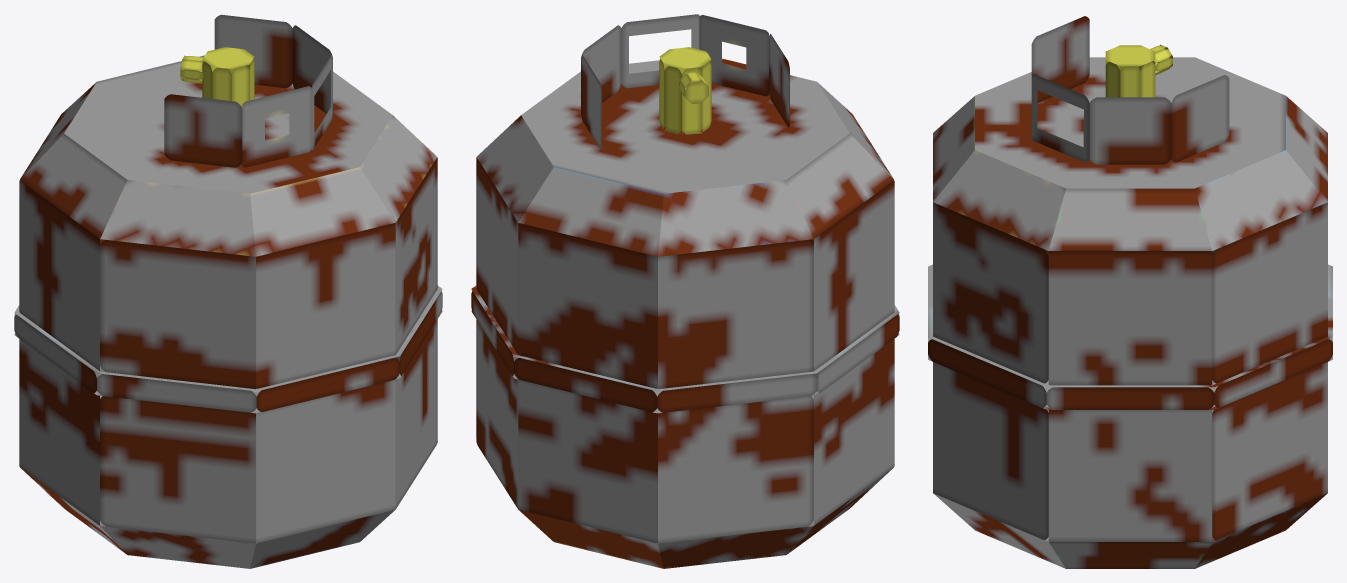
Rendered from PropaneTank.fbx.
3 renders of one model, left to right at view 1: azimuth 30°, elevation 25°; view 2: azimuth 150°, elevation 25°; view 3: azimuth 270°, elevation 25°, orthographic.
Parts seen in each view (by area): view 1: cylinder, cylinder_1, cylinder_3, cylinder_2, cylinder_4, cylinder_5; view 2: cylinder, cylinder_1, cylinder_3, cylinder_2, cylinder_4, cylinder_5; view 3: cylinder, cylinder_1, cylinder_3, cylinder_2, cylinder_4.
Boxes of the visible parts, x1,y1,x2,y2 form: cylinder: [14, 157, 442, 543]; cylinder_1: [20, 55, 436, 256]; cylinder_3: [164, 14, 332, 167]; cylinder_2: [20, 390, 436, 568]; cylinder_4: [202, 47, 254, 107]; cylinder_5: [180, 55, 203, 83]; cylinder: [471, 157, 899, 543]; cylinder_1: [477, 58, 893, 256]; cylinder_3: [581, 14, 789, 148]; cylinder_2: [476, 388, 893, 568]; cylinder_4: [659, 47, 711, 134]; cylinder_5: [679, 72, 708, 104]; cylinder: [928, 202, 1332, 541]; cylinder_1: [933, 57, 1327, 250]; cylinder_3: [1031, 16, 1229, 164]; cylinder_2: [933, 381, 1327, 568]; cylinder_4: [1105, 45, 1155, 97].
Bounding box in the file's own units: 102 × 131 × 103.
Materials: 1 (1 with a texture image).
